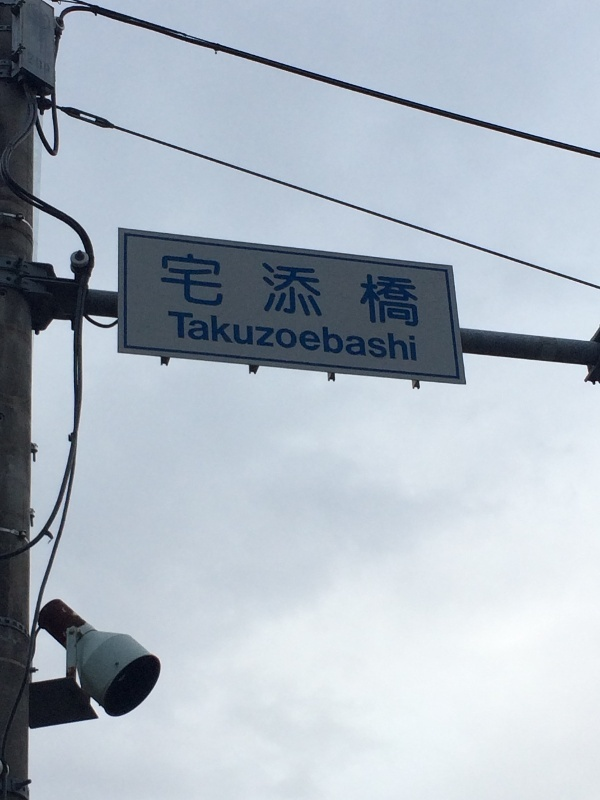text: (161, 249, 176, 330), (177, 249, 192, 330), (193, 249, 208, 330), (209, 249, 224, 330), (225, 249, 240, 330), (241, 249, 256, 330), (257, 249, 272, 330), (273, 249, 288, 330), (289, 249, 304, 330), (305, 249, 320, 330), (321, 249, 336, 330), (337, 249, 352, 330), (353, 249, 368, 330), (369, 249, 384, 330), (385, 249, 400, 330), (401, 249, 416, 330), (177, 309, 192, 364), (193, 309, 208, 364), (209, 309, 224, 364), (225, 309, 240, 364), (241, 309, 256, 364), (257, 309, 272, 364), (273, 309, 288, 364), (289, 309, 304, 364), (305, 309, 320, 364), (321, 309, 336, 364), (337, 309, 352, 364), (353, 309, 368, 364), (369, 309, 384, 364), (385, 309, 400, 364), (401, 309, 416, 364), (167, 309, 176, 364), (417, 249, 422, 330), (417, 309, 419, 364)
